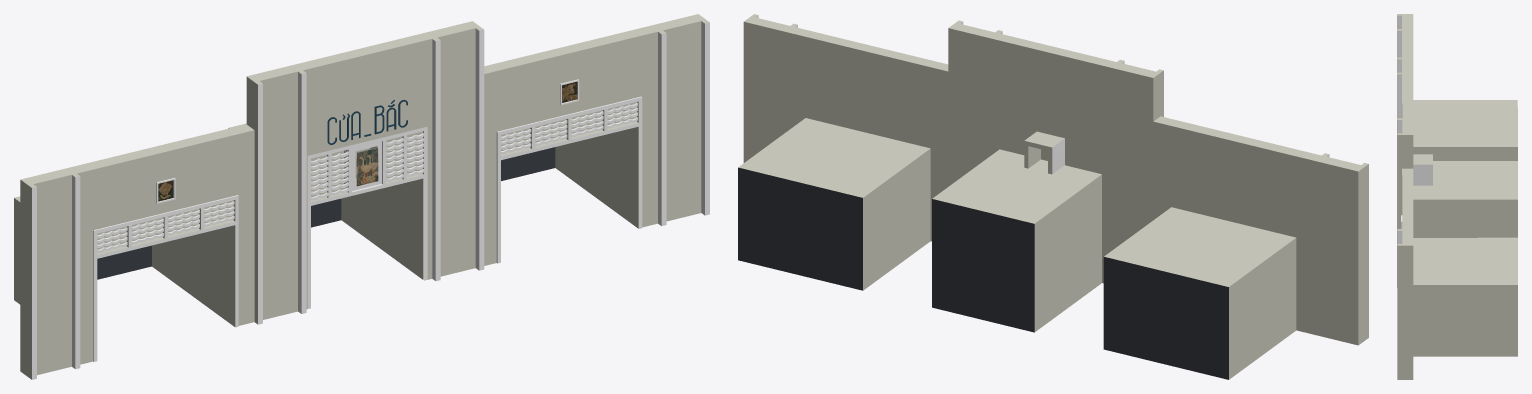
The model's file is cuaBac.glb.
3 renders of one model, left to right at view 1: azimuth 30°, elevation 25°; view 2: azimuth 150°, elevation 25°; view 3: azimuth 270°, elevation 25°, orthographic. The views are drawn at different scales.
Parts seen in each view (by area): view 1: _C-Component#17 (Loose Mesh).007, _C-Component#17 (Loose Mesh).006, _C-Component#8 (Loose Mesh).004, _C-Component#8 (Loose Mesh).005, C-Component#47; view 2: _C-Component#17 (Loose Mesh).007, _C-Component#17 (Loose Mesh).006, _C-Component#8 (Loose Mesh).005, _C-Component#8 (Loose Mesh).004; view 3: _C-Component#17 (Loose Mesh).006, _C-Component#8 (Loose Mesh).004, _C-Component#17 (Loose Mesh).007, _C-Component#8 (Loose Mesh).005.
Part boxes in pixels (box(x1,y1,x2,y2)): _C-Component#17 (Loose Mesh).007: box(14, 124, 254, 379); _C-Component#17 (Loose Mesh).006: box(484, 14, 709, 265); _C-Component#8 (Loose Mesh).004: box(311, 21, 484, 281); _C-Component#8 (Loose Mesh).005: box(228, 49, 367, 324); C-Component#47: box(356, 147, 378, 186); _C-Component#17 (Loose Mesh).007: box(1103, 116, 1368, 379); _C-Component#17 (Loose Mesh).006: box(738, 14, 948, 290); _C-Component#8 (Loose Mesh).005: box(983, 48, 1163, 332); _C-Component#8 (Loose Mesh).004: box(932, 20, 1057, 319); _C-Component#17 (Loose Mesh).006: box(1397, 168, 1517, 379); _C-Component#8 (Loose Mesh).004: box(1397, 96, 1517, 287); _C-Component#17 (Loose Mesh).007: box(1397, 14, 1517, 160); _C-Component#8 (Loose Mesh).005: box(1397, 57, 1517, 180).
Bounding box in the file's own units: 26.2 × 8.86 × 5.78.
6 materials, 2 textured.
